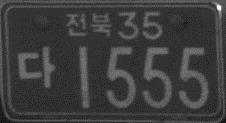1: (73, 43, 93, 112)
3: (116, 10, 140, 40)
5: (177, 45, 210, 111), (103, 45, 137, 108), (142, 47, 173, 109), (139, 10, 163, 40)
다: (15, 45, 55, 88)
전북_O: (63, 9, 113, 38)
